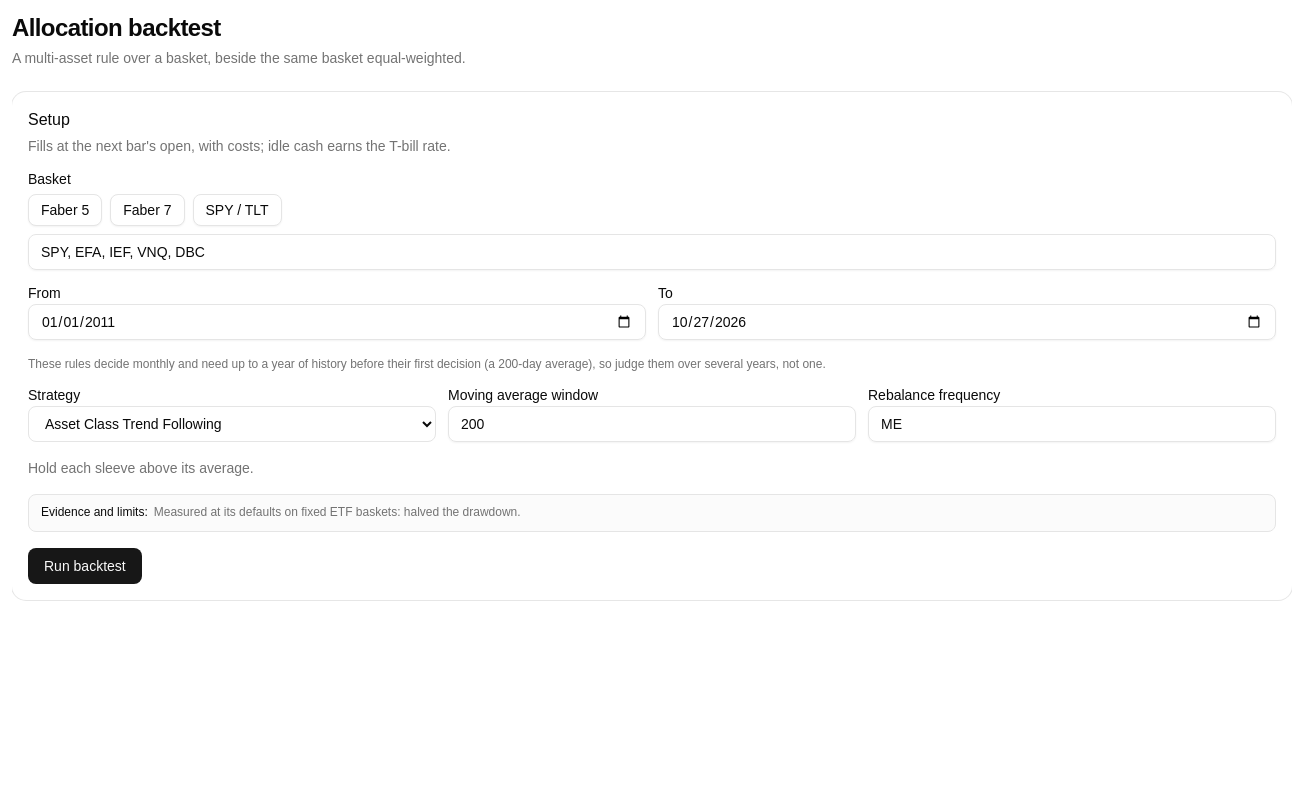
Test case: AllocationPage — running › surfaces a refusal from the server
This screenshot has width=1292, height=812.
Check: the number field labelled "Moving average window" is shown, box top-left (448, 406), bottom-right (856, 442)
Click the button "Run backtest": [85, 566] box top-left (28, 548), bottom-right (142, 584)
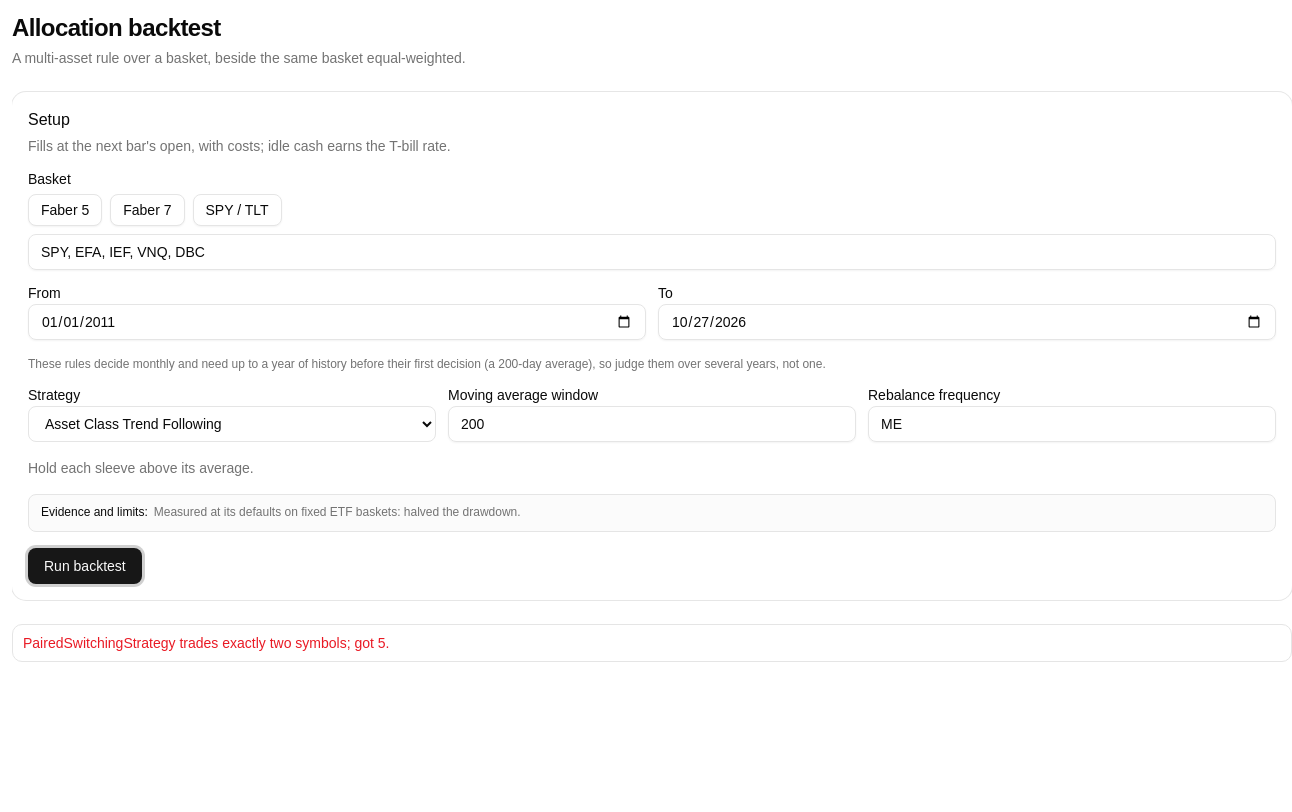
Check: the text "PairedSwitchingStrategy trades exactly two symbols; got 5." is shown, box top-left (23, 634), bottom-right (390, 650)
